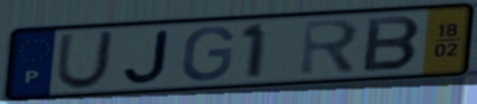1: (238, 22, 268, 81)
B: (359, 14, 425, 74)
G: (179, 24, 237, 83)
J: (120, 28, 172, 86)
R: (297, 16, 363, 79)
U: (52, 29, 117, 92)
